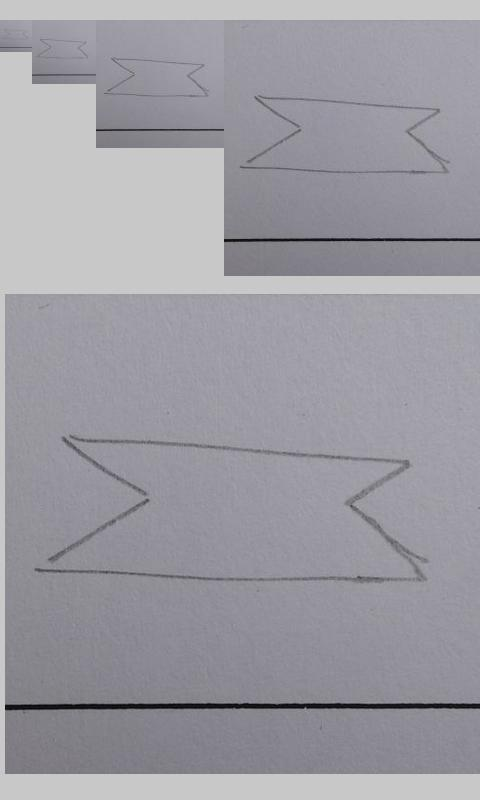edit_text: (34, 431, 425, 589), (240, 94, 449, 176), (105, 57, 207, 98), (36, 38, 88, 60), (1, 29, 29, 41)
